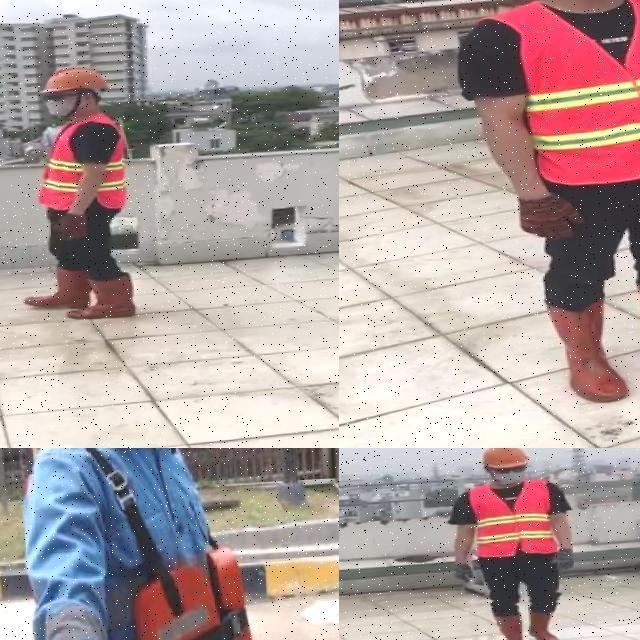boots: (544, 302, 632, 407), (68, 276, 141, 320), (24, 268, 92, 310), (524, 607, 564, 640), (491, 609, 529, 640)
helmet: (36, 65, 110, 94), (474, 448, 534, 472)
vest: (23, 448, 287, 640), (515, 0, 640, 187), (38, 120, 133, 212), (470, 478, 558, 560)
